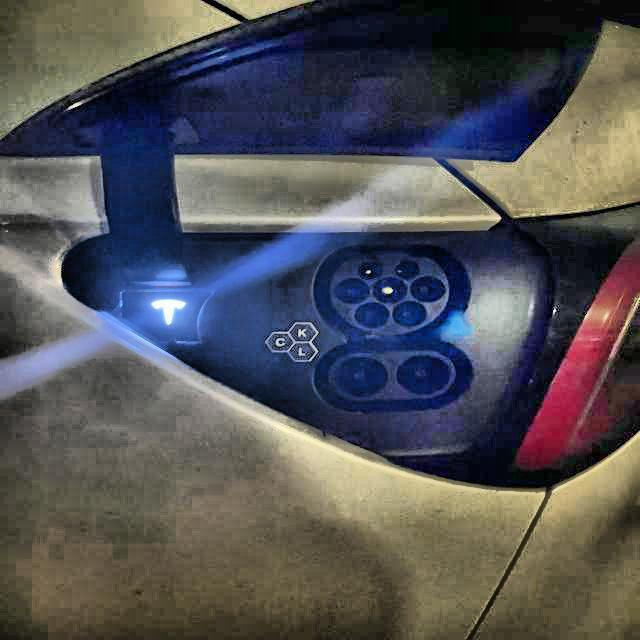inlet: (330, 256, 449, 335)
inlet-above-left: (357, 261, 383, 280)
inlet-above-right: (395, 261, 420, 279)
inlet-below-left: (354, 302, 390, 328)
inlet-below-right: (392, 301, 427, 327)
inlet-center: (372, 278, 408, 303)
inlet-center-left: (334, 278, 370, 304)
inlet-center-right: (409, 276, 446, 302)
